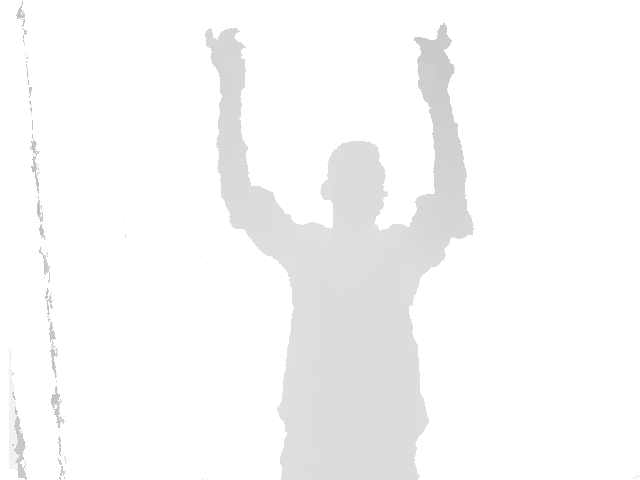hand: (414, 22, 456, 106), (204, 27, 247, 95)
head: (321, 141, 388, 225)
person: (203, 26, 475, 480)
